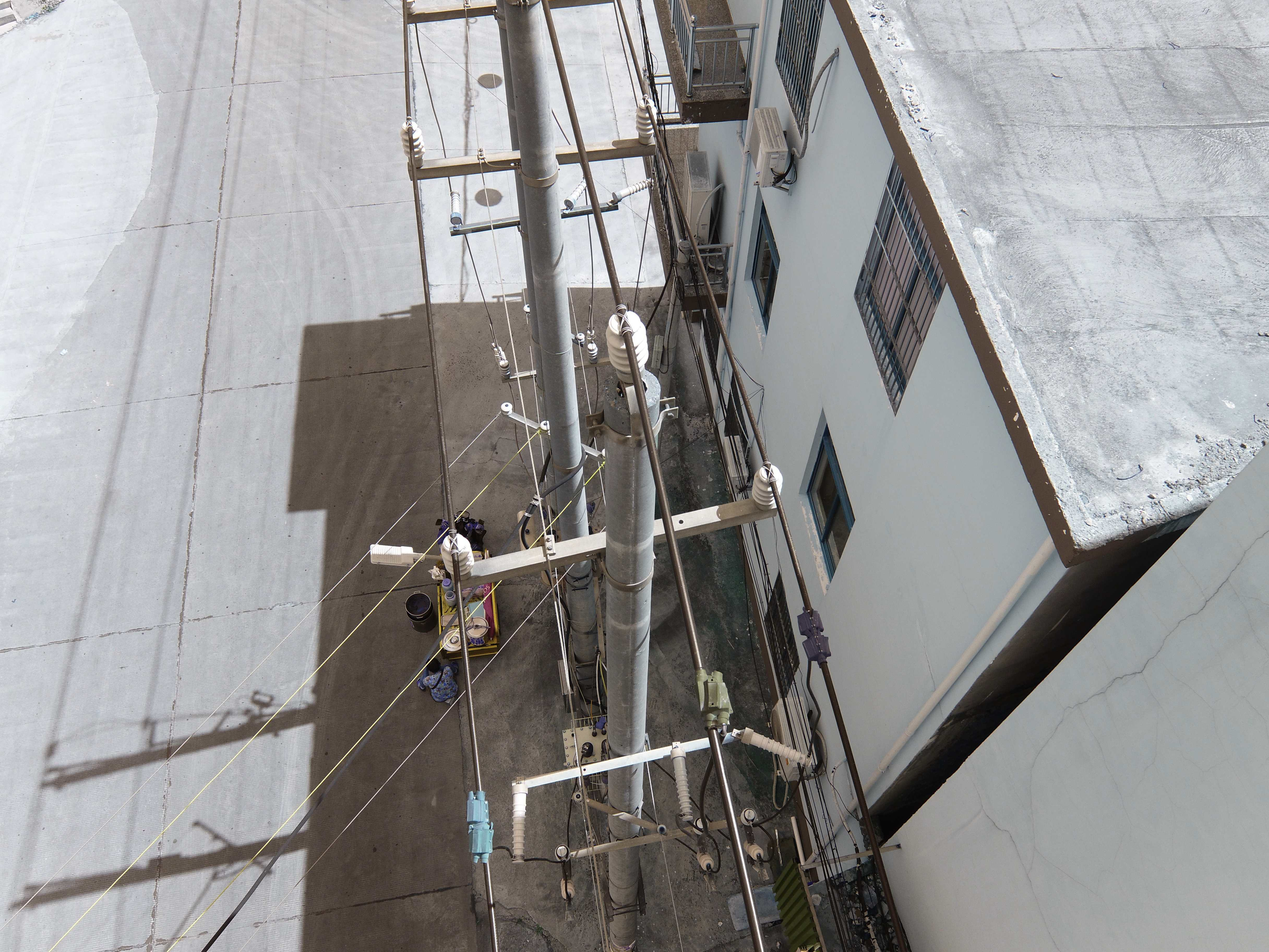severe_soiling_no_discharge_whole: (657, 824, 668, 835)
